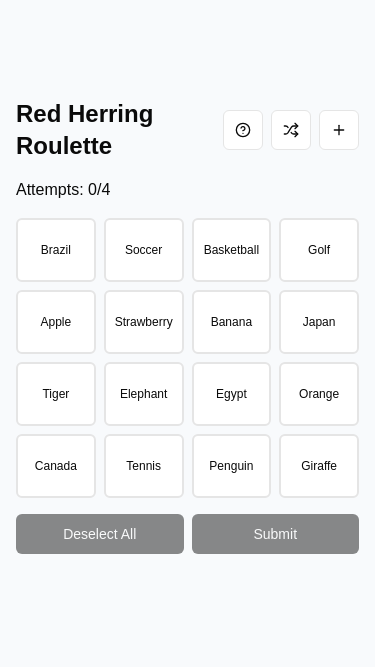
it: Home Page › Playing the game › should allow solving the "Animals" category
Click the button "Elephant" at [144, 394], box [104,362,184,426]
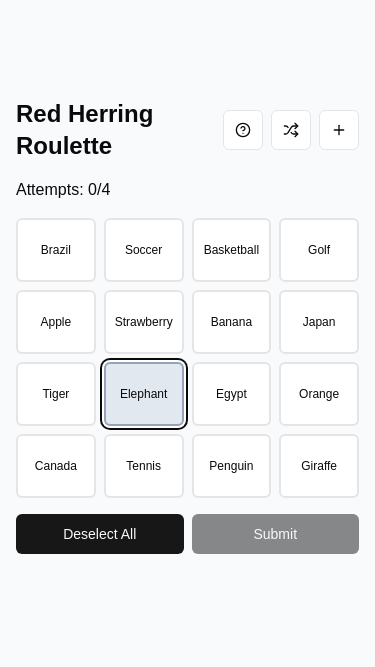
Click the button "Tiger" at [56, 394], box [16,362,96,426]
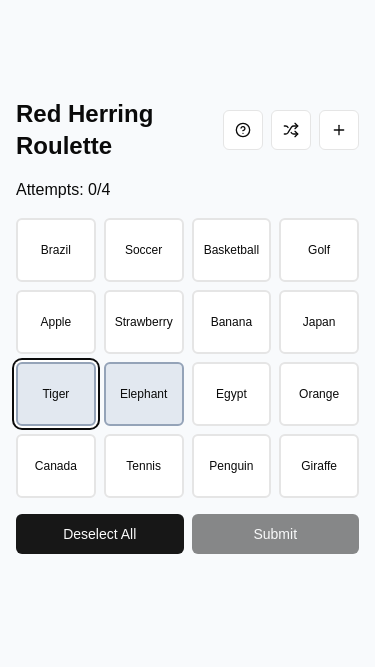
Click the button "Giraffe" at [319, 466], box [279,434,359,498]
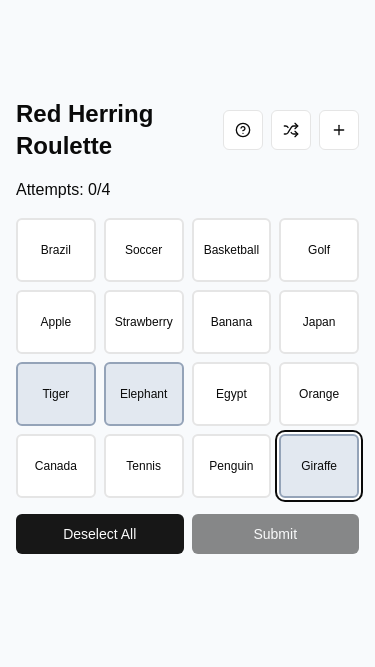
Click the button "Penguin" at [232, 466], box [192,434,272,498]
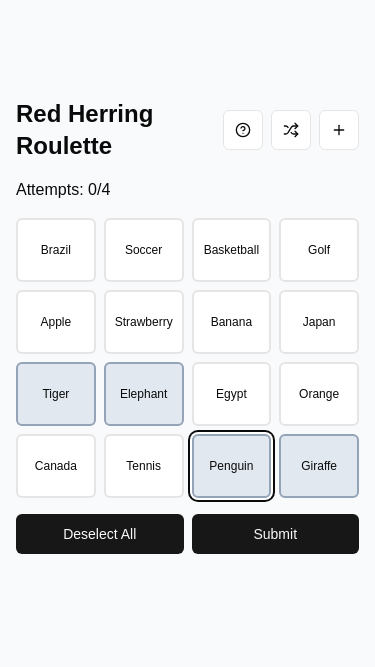
Click the button with test id "submit-button" at [276, 534], box [192,514,360,554]
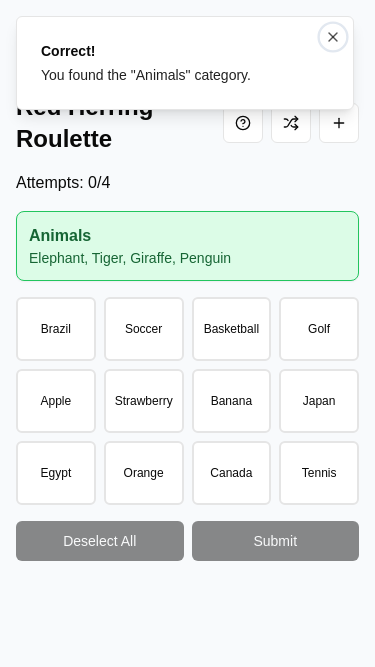
Expected: the list item with test id "toast" is shown, [16,16,354,110]
Expected: the text "Correct!" is shown, [41,43,96,59]
Expected: the element with test id "solved-category" is shown, [16,211,359,281]
